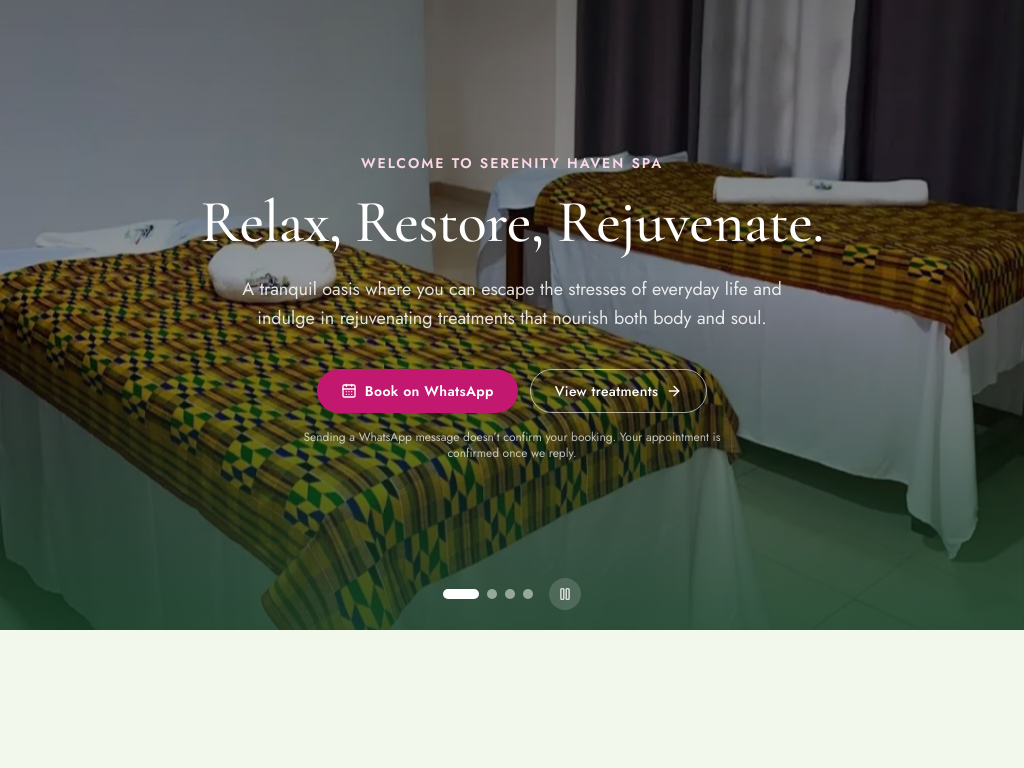
HeroCarousel › can be paused, and dots jump to a slide
Step 1. Click the 5th button named "Pause slideshow" → (565, 594), box [549,578,581,610]
Wait 20000 ms
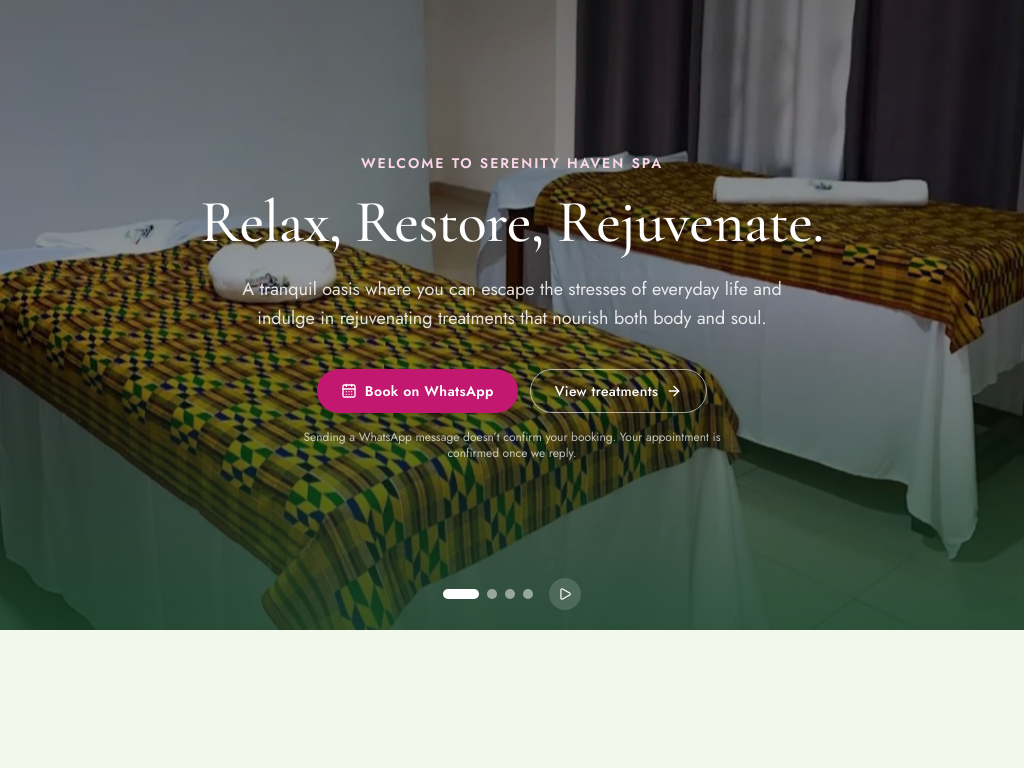
Expected: the heading reads "Relax, Restore, Rejuvenate.", [200,186,824,258]
Step 2. Click the 2nd button named "Show slide 2" → (492, 594), box [487,589,497,599]
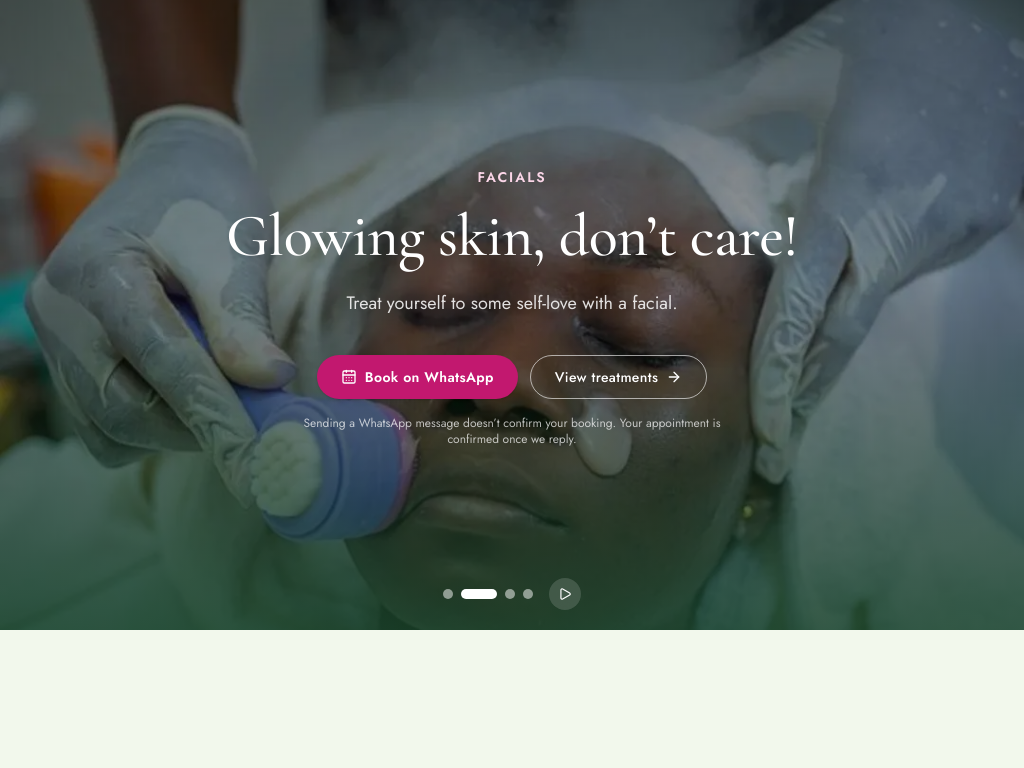
Expected: the heading reads "Glowing skin, don’t care!", [226,200,798,272]
